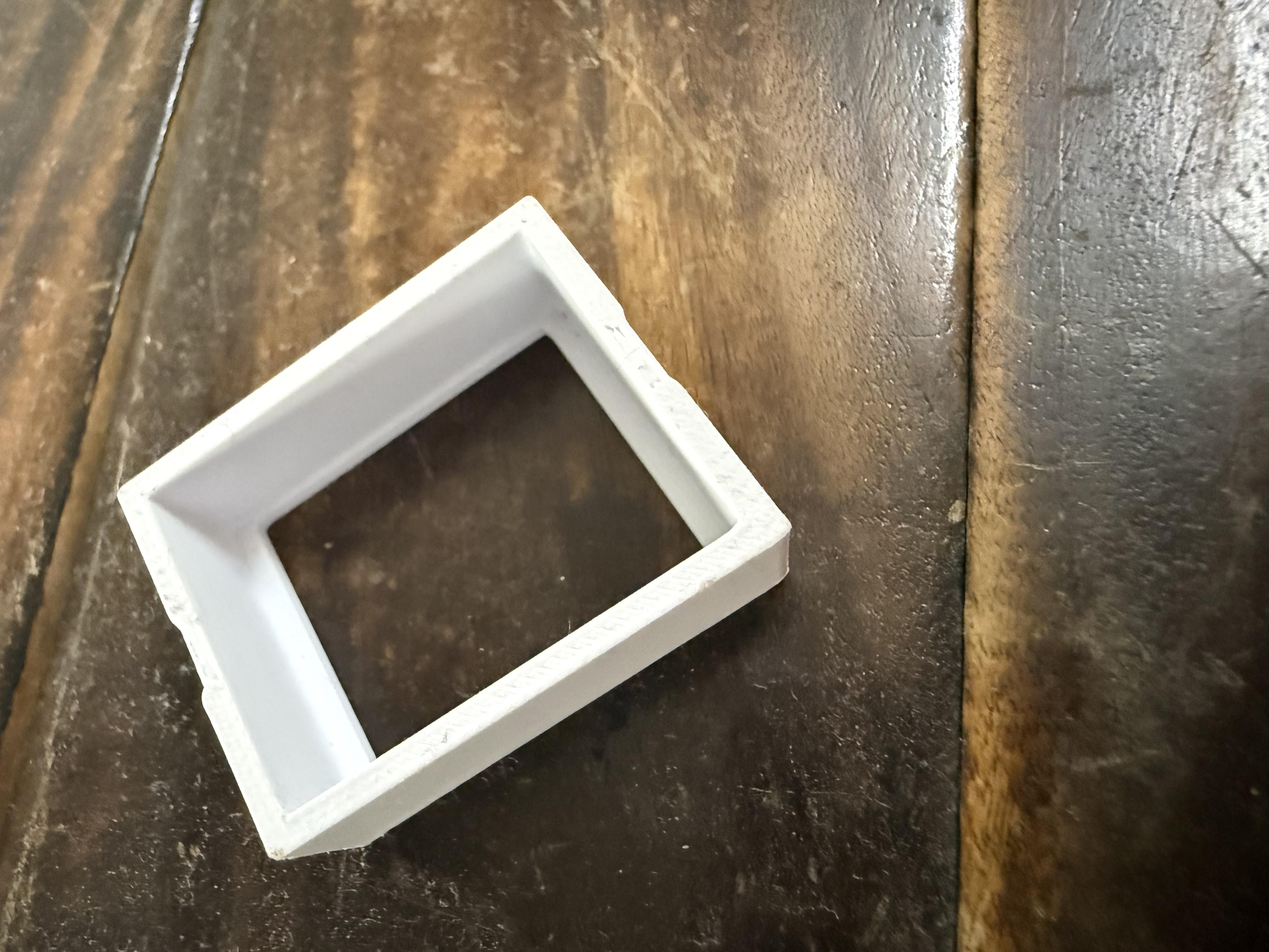enclosure: (118, 195, 792, 862)
